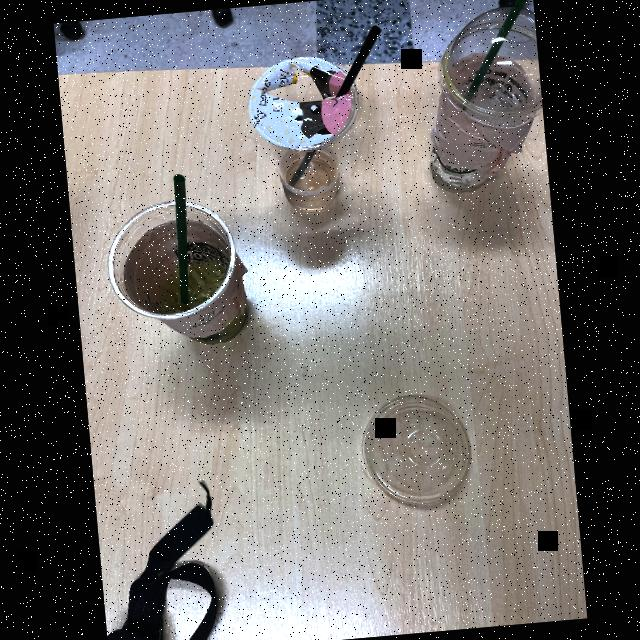plastic_cup: (90, 192, 257, 358), (418, 3, 549, 203), (238, 47, 366, 235)
plastic_cup_lid: (340, 386, 482, 516), (428, 1, 544, 126)
straw: (278, 22, 392, 188), (435, 0, 543, 125), (164, 152, 202, 313)
